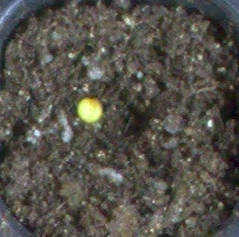pepper seed: (25, 35, 128, 159)
